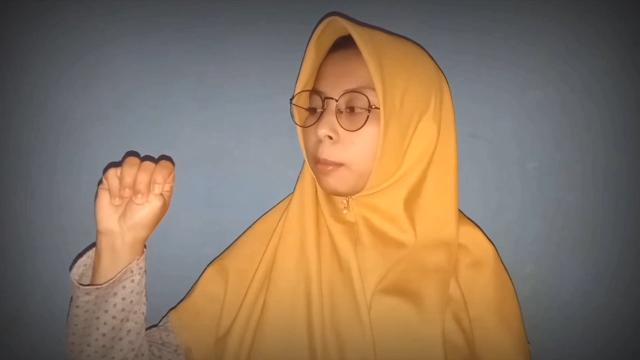M: (92, 151, 176, 244)
